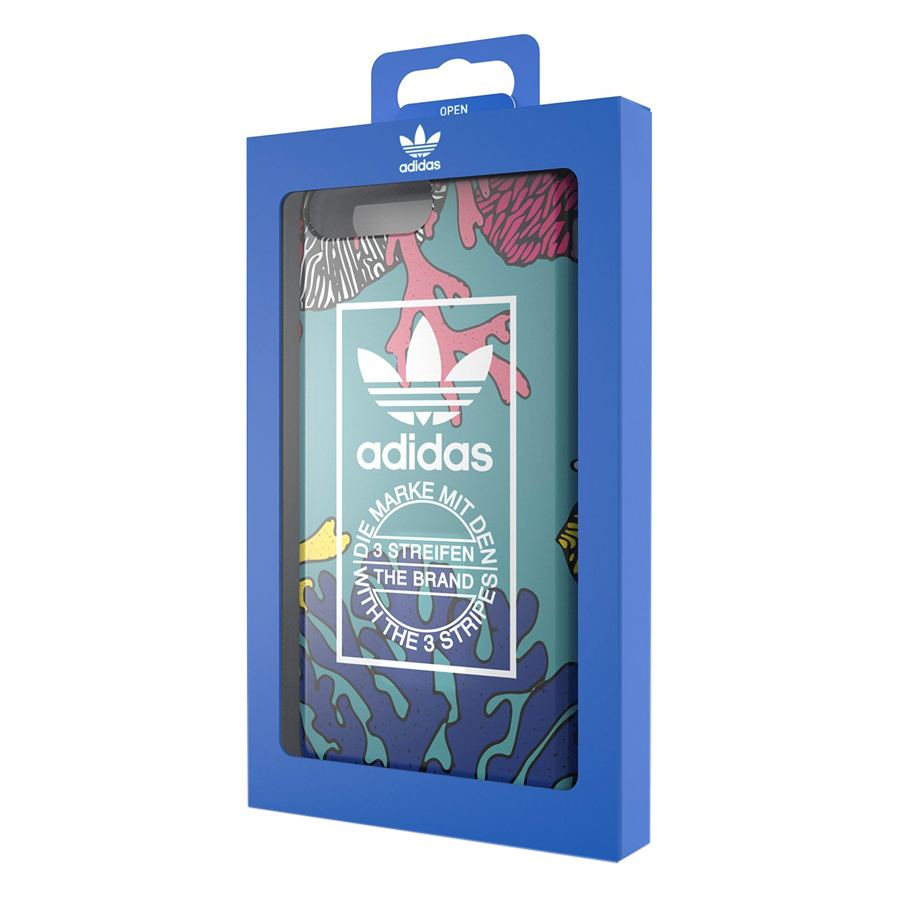Adidas: (349, 314, 499, 478), (393, 123, 448, 175)
